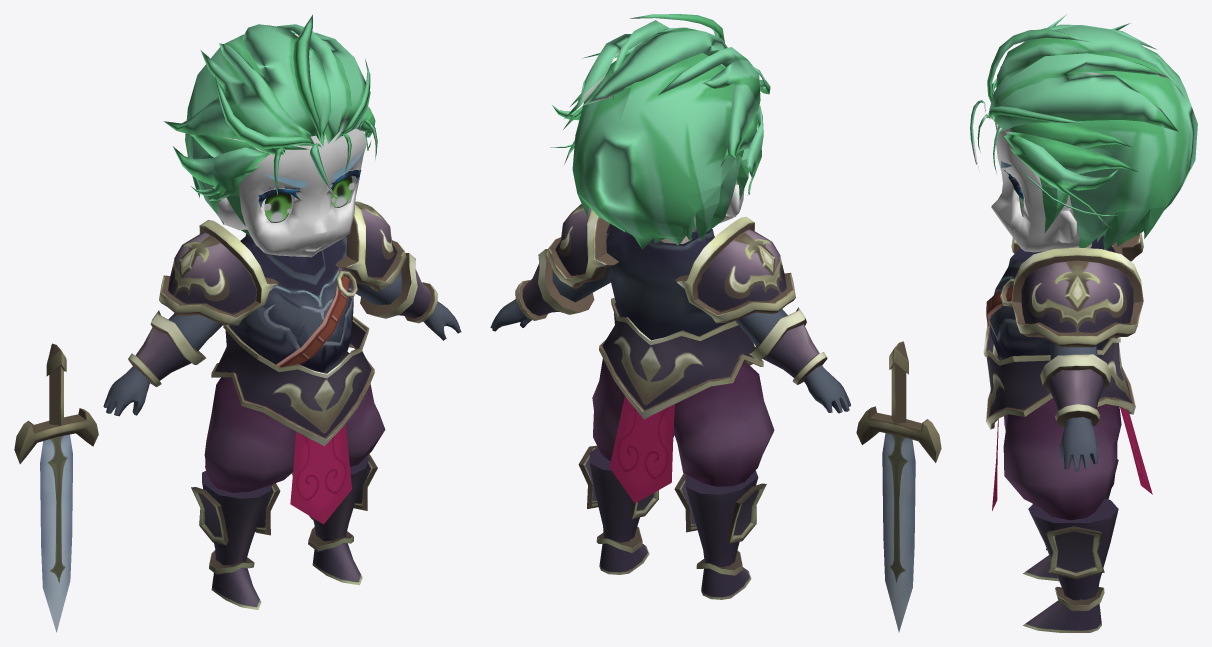
Rendered from zhanshi2.FBX.
3 renders of one model, left to right at view 1: azimuth 30°, elevation 25°; view 2: azimuth 150°, elevation 25°; view 3: azimuth 270°, elevation 25°, orthographic. The views are drawn at different scales.
Parts seen in each view (by area): view 1: zhanshi_shangyi, zhanshi_toufa, zhanshi_xiezi, zhanshi_lian, zhanshi_xiashen, zhanshi_jian, zhanshi_yanjing, zhanshi_meimao; view 2: zhanshi_shangyi, zhanshi_toufa, zhanshi_xiezi, zhanshi_xiashen, zhanshi_jian; view 3: zhanshi_toufa, zhanshi_shangyi, zhanshi_xiashen, zhanshi_xiezi, zhanshi_lian.
Boxes of the visible parts, x1=… form: zhanshi_shangyi: x1=103, y1=201, x2=461, y2=524; zhanshi_toufa: x1=163, y1=14, x2=377, y2=236; zhanshi_xiezi: x1=191, y1=454, x2=377, y2=609; zhanshi_lian: x1=217, y1=128, x2=366, y2=257; zhanshi_xiashen: x1=204, y1=352, x2=385, y2=492; zhanshi_jian: x1=14, y1=343, x2=98, y2=632; zhanshi_yanjing: x1=264, y1=175, x2=354, y2=222; zhanshi_meimao: x1=258, y1=150, x2=363, y2=207; zhanshi_shangyi: x1=490, y1=204, x2=850, y2=503; zhanshi_toufa: x1=550, y1=14, x2=770, y2=249; zhanshi_xiezi: x1=578, y1=445, x2=766, y2=599; zhanshi_xiashen: x1=592, y1=359, x2=774, y2=486; zhanshi_jian: x1=856, y1=341, x2=941, y2=632; zhanshi_toufa: x1=970, y1=14, x2=1197, y2=249; zhanshi_shangyi: x1=983, y1=233, x2=1152, y2=510; zhanshi_xiashen: x1=1003, y1=398, x2=1121, y2=520; zhanshi_xiezi: x1=1023, y1=459, x2=1118, y2=632; zhanshi_lian: x1=991, y1=125, x2=1079, y2=252.
Bounding box in the file's own units: 89.69 × 107 × 38.29.
